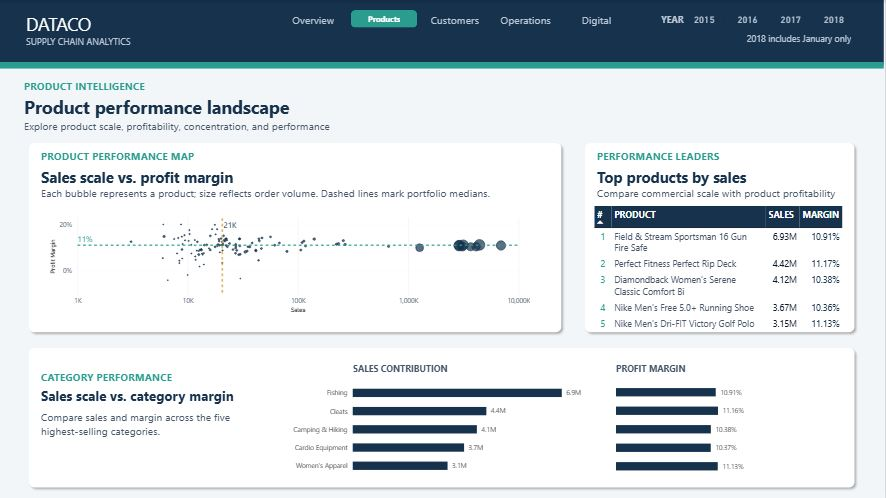

Layout of this report page (visuals, bound fields, positions):
{"tool":"powerbi","page":{"name":"Products","canvas":[1600,900],"ordinal":1},"visuals":[{"type":"shape","box":[0,0,1599.4,117.5],"z":0},{"type":"shape","box":[0,112,1599.4,12],"z":1000},{"type":"textbox","box":[48,22,500,65],"z":2000},{"type":"pageNavigator","box":[507.8,18,632.5,32.5],"z":3000},{"type":"textbox","box":[1195,25,45,30],"z":4000},{"type":"advancedSlicerVisual","fields":{"Values":["Dates.Year"]},"box":[1240,18,305,36],"z":5000},{"type":"textbox","box":[1330,60,210,21],"z":6000},{"type":"textbox","box":[45,142,340,28],"z":7000},{"type":"textbox","box":[45,172,700,45],"z":8000},{"type":"textbox","box":[45,215,750,34],"z":9000},{"type":"shape","box":[45,250,980,360],"z":10000},{"type":"textbox","box":[75,270,280,28],"z":11000},{"type":"textbox","box":[75,302,520,38],"z":12000},{"type":"textbox","box":[75.9,337,822.3,30],"z":13000},{"type":"scatterChart","fields":{"Category":["Products.Product Name"],"Size":["_Measures.Orders"],"X":["_Measures.Total Sales"],"Y":["_Measures.Profit Margin"]},"box":[75,372,900,210],"z":14000},{"type":"shape","box":[1050,250,505,360],"z":15000},{"type":"textbox","box":[1080,270,260,28],"z":16000},{"type":"textbox","box":[1080,302,360,38],"z":17000},{"type":"textbox","box":[1080.7,337,459,27.1],"z":18000},{"type":"tableEx","fields":{"Values":["_Measures.Product Sales Rank","Products.Product Name","_Measures.Total Sales","_Measures.Profit Margin"]},"box":[1069.9,372,464.5,232],"z":19000},{"type":"shape","box":[45,620,1510,270],"z":20000},{"type":"textbox","box":[75,669,260,25],"z":21000},{"type":"textbox","box":[76,700,367.7,34.9],"z":22000},{"type":"textbox","box":[76,741.5,367.7,102.7],"z":23000},{"type":"clusteredBarChart","fields":{"Category":["Products.Category Name"],"Y":["_Measures.Total Sales"]},"box":[507.8,681.3,560.2,182.5],"z":24000},{"type":"clusteredBarChart","fields":{"Category":["Products.Category Name"],"Y":["_Measures.Profit Margin"]},"box":[1098.8,681.3,280.1,182.5],"z":25000},{"type":"textbox","box":[640,656,188,25.3],"z":26000},{"type":"textbox","box":[1115,656,200.6,25.3],"z":27000}]}

Visuals, with their boxes in screenshot pixels (x1, y1, x2, y2), scaled from the page's 1600x900 canvas onto the 886x498 screenshot:
shape: BBox(0, 0, 885, 65)
shape: BBox(0, 62, 885, 69)
textbox: BBox(27, 12, 303, 48)
pageNavigator: BBox(281, 10, 631, 28)
textbox: BBox(662, 14, 687, 30)
advancedSlicerVisual - Dates.Year: BBox(687, 10, 856, 30)
textbox: BBox(736, 33, 853, 45)
textbox: BBox(25, 79, 213, 94)
textbox: BBox(25, 95, 413, 120)
textbox: BBox(25, 119, 440, 138)
shape: BBox(25, 138, 568, 338)
textbox: BBox(42, 149, 197, 165)
textbox: BBox(42, 167, 329, 188)
textbox: BBox(42, 186, 497, 203)
scatterChart - Products.Product Name x _Measures.Orders: BBox(42, 206, 540, 322)
shape: BBox(581, 138, 861, 338)
textbox: BBox(598, 149, 742, 165)
textbox: BBox(598, 167, 797, 188)
textbox: BBox(598, 186, 853, 201)
tableEx - _Measures.Product Sales Rank x Products.Product Name: BBox(592, 206, 850, 334)
shape: BBox(25, 343, 861, 492)
textbox: BBox(42, 370, 186, 384)
textbox: BBox(42, 387, 246, 407)
textbox: BBox(42, 410, 246, 467)
clusteredBarChart - Products.Category Name x _Measures.Total Sales: BBox(281, 377, 591, 478)
clusteredBarChart - Products.Category Name x _Measures.Profit Margin: BBox(608, 377, 764, 478)
textbox: BBox(354, 363, 459, 377)
textbox: BBox(617, 363, 729, 377)
